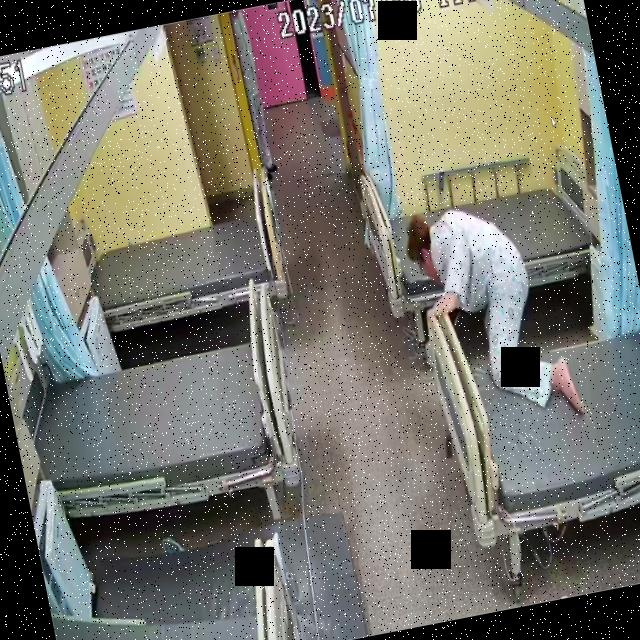bed: (419, 263, 640, 545), (20, 326, 307, 526), (360, 158, 612, 320), (84, 200, 288, 332)
danger: (408, 186, 592, 448)
patient: (403, 187, 591, 450)
